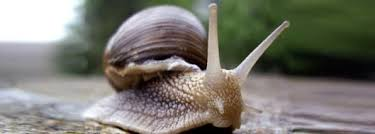snail: (81, 5, 290, 131)
